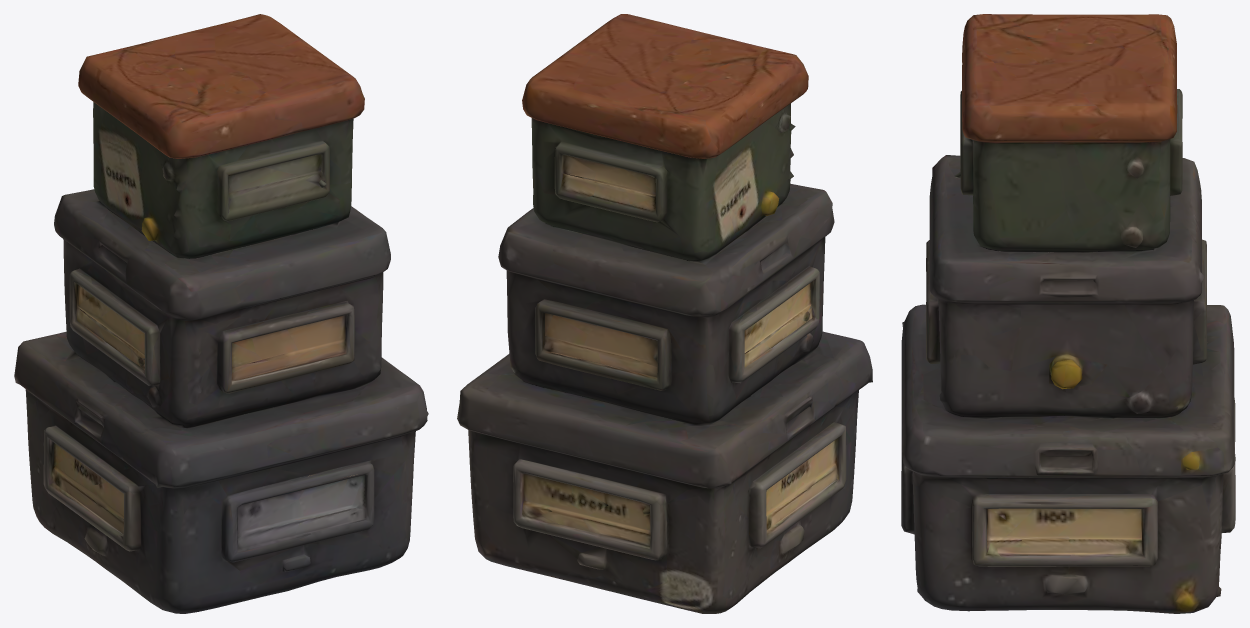
Rendered from deco_boxes.glb.
3 renders of one model, left to right at view 1: azimuth 30°, elevation 25°; view 2: azimuth 150°, elevation 25°; view 3: azimuth 270°, elevation 25°, orthographic. The views are drawn at different scales.
Parts seen in each view (by area): view 1: tripo_node_49f55df6-ef7f-4567-aec4-93e65efdc5b2; view 2: tripo_node_49f55df6-ef7f-4567-aec4-93e65efdc5b2; view 3: tripo_node_49f55df6-ef7f-4567-aec4-93e65efdc5b2.
Part boxes in pixels (x1,y1,x2,y2): tripo_node_49f55df6-ef7f-4567-aec4-93e65efdc5b2: [14, 14, 428, 613]; tripo_node_49f55df6-ef7f-4567-aec4-93e65efdc5b2: [457, 14, 872, 613]; tripo_node_49f55df6-ef7f-4567-aec4-93e65efdc5b2: [901, 14, 1235, 613].
Bounding box in the file's own units: 0.606 × 1 × 0.6042.
Materials: 1 (1 with a texture image).
